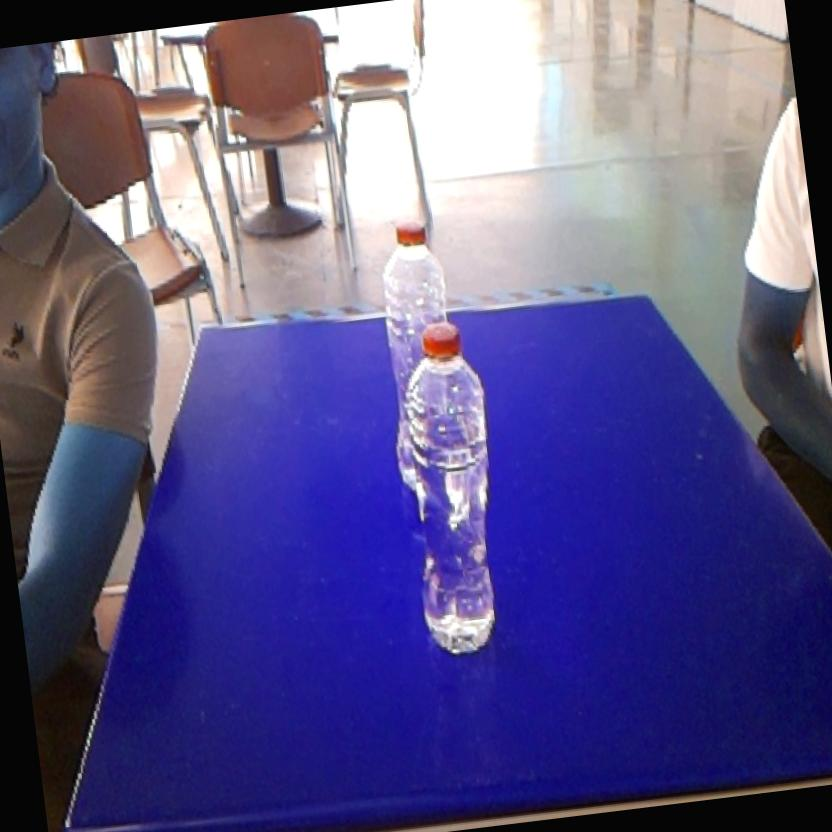no_label: (376, 310, 527, 672), (366, 202, 460, 327)
